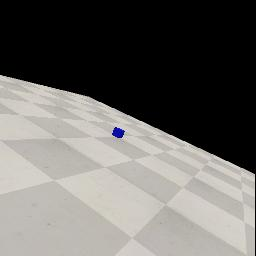box: (112, 127, 125, 138)
